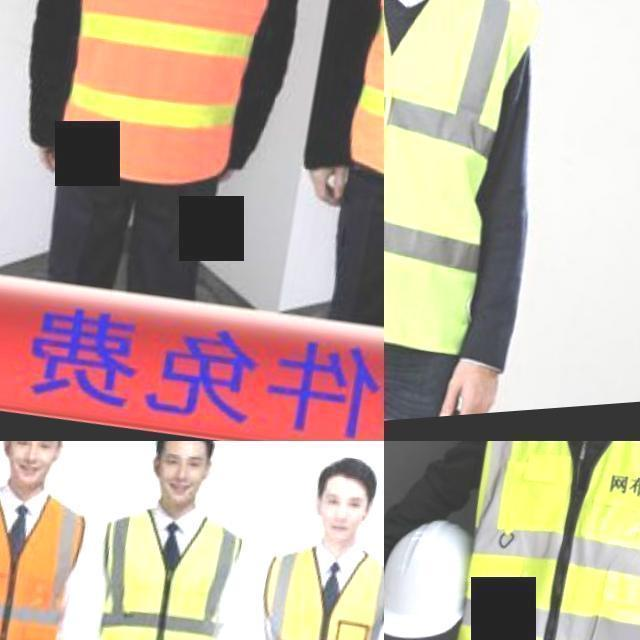vest: (384, 0, 539, 374), (27, 0, 300, 207), (428, 441, 640, 640), (78, 501, 235, 640), (237, 540, 384, 640), (0, 477, 84, 640)
